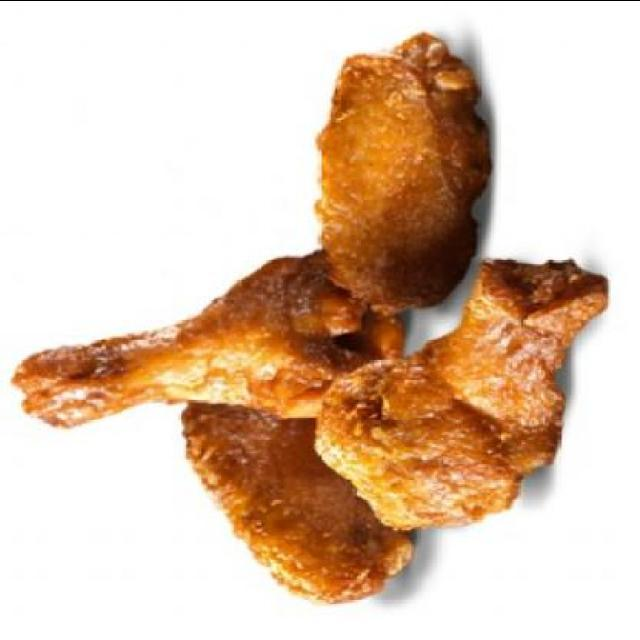Deep fried chicken wing: (48, 26, 592, 590)
